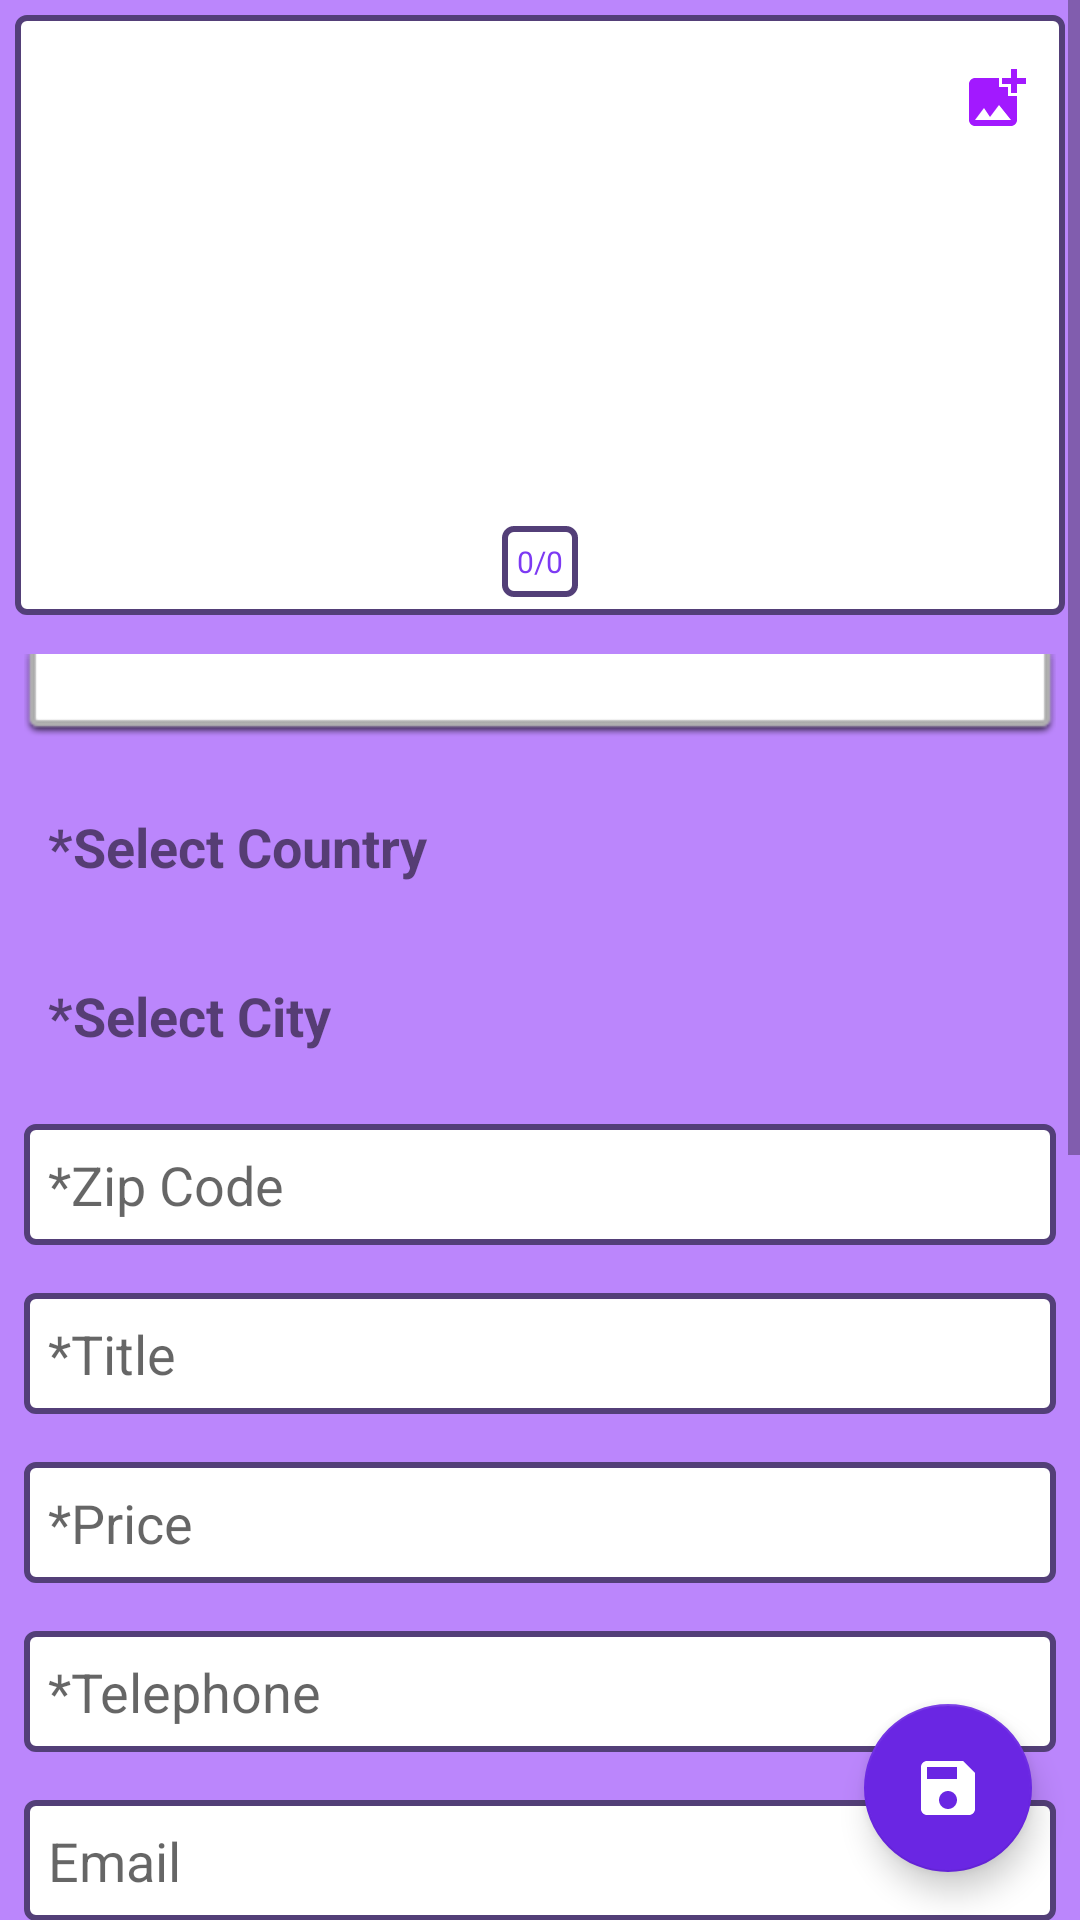

Icon bounding boxes for this 1080px×1920px phone screenshot, format (x1, y1, x2, y2):
gallery: (969, 69, 1026, 126)
save: (864, 1704, 1032, 1872)
